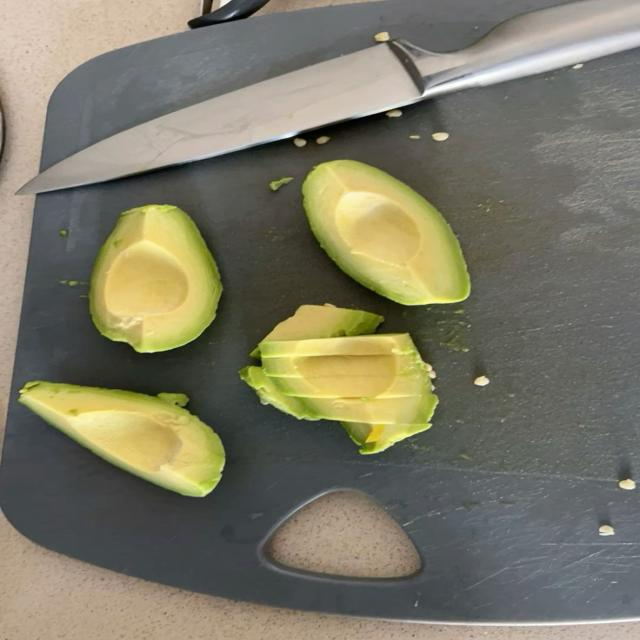avocado: (240, 306, 437, 454), (303, 160, 469, 305), (20, 382, 225, 496), (90, 206, 221, 352), (263, 334, 436, 424), (264, 354, 427, 397), (263, 305, 383, 341), (240, 366, 319, 419), (261, 334, 415, 360), (342, 423, 431, 454)
